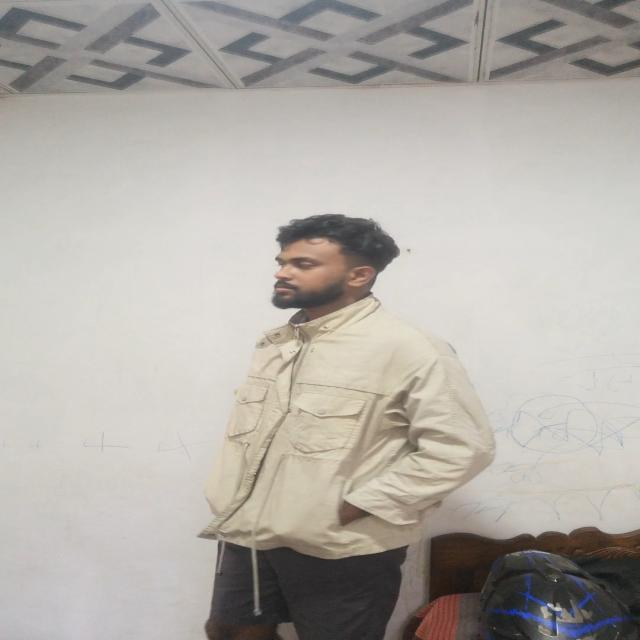Jacket_Wearer: (194, 302, 486, 574)
Person: (202, 209, 464, 640)
